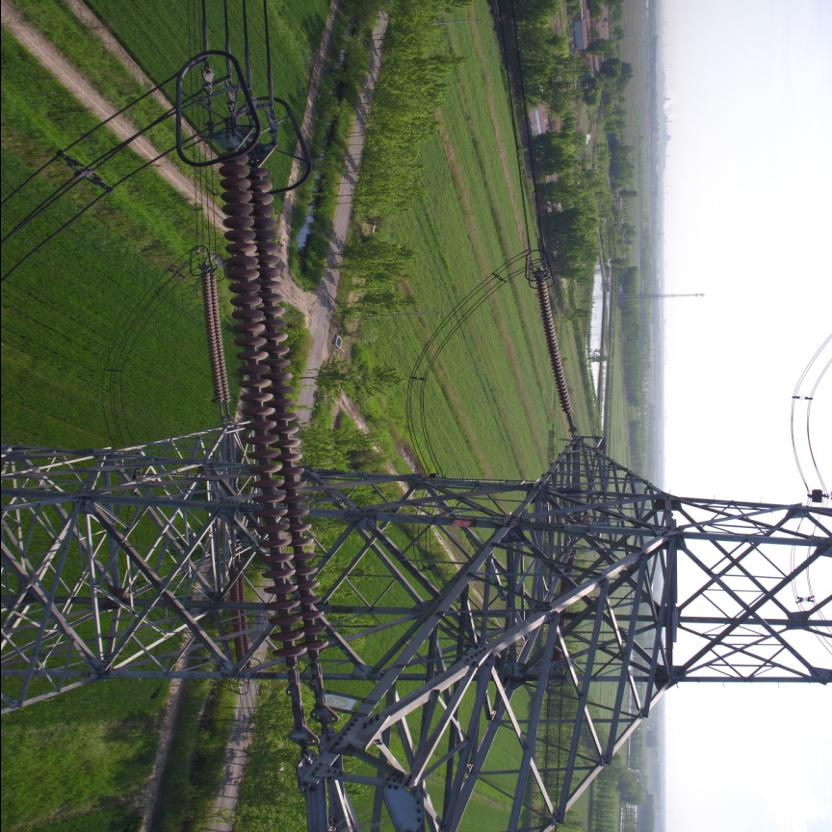insulator: (216, 143, 334, 701), (533, 274, 577, 424)
